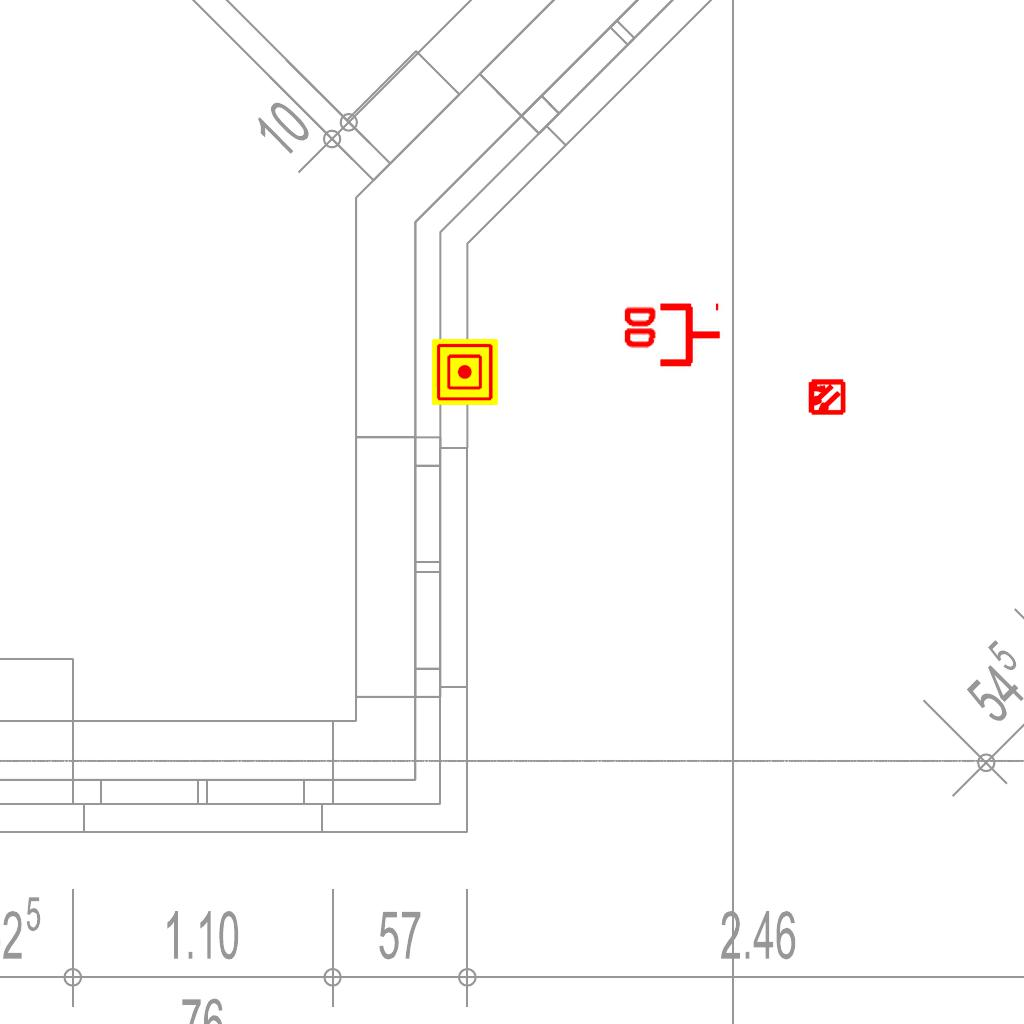Datenanschluss_zweifach: (620, 302, 723, 371)
NAM-Nichtautomatischer_Melder: (432, 339, 498, 405)
OT_Multisensormelder_(Kombination_RMO_WMD): (798, 369, 854, 425)
